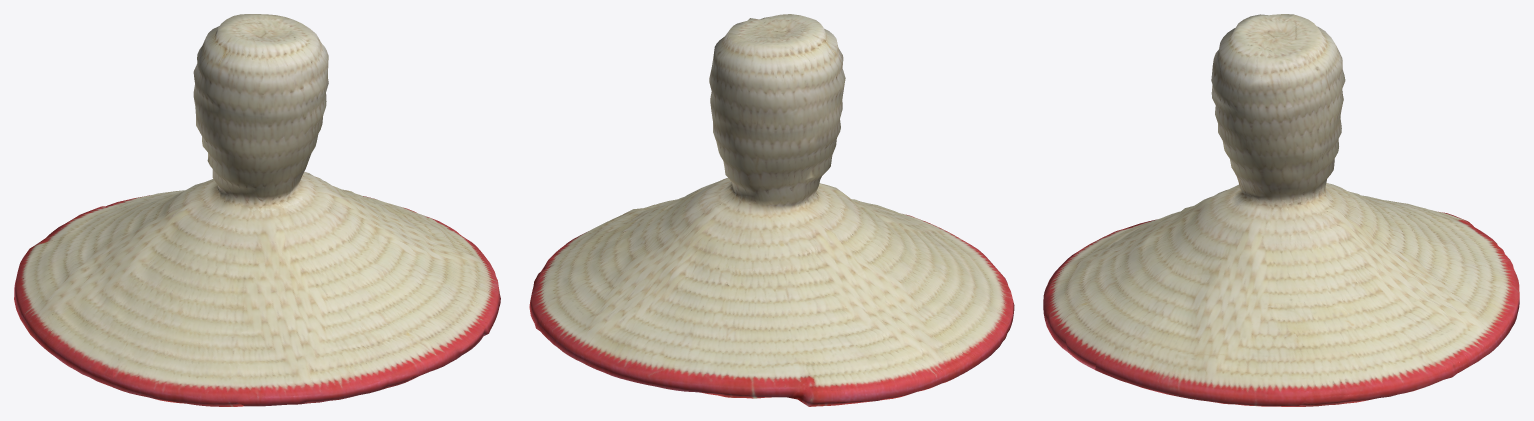
Rendered from woven-lid.gltf.
3 renders of one model, left to right at view 1: azimuth 30°, elevation 25°; view 2: azimuth 150°, elevation 25°; view 3: azimuth 270°, elevation 25°, orthographic.
Visible parts, largest first — view 1: lid-optimised; view 2: lid-optimised; view 3: lid-optimised.
Part boxes in pixels (bbox=[...]): lid-optimised: bbox=[14, 14, 500, 406]; lid-optimised: bbox=[529, 14, 1014, 406]; lid-optimised: bbox=[1043, 14, 1519, 406].
Size of the model in its own units: 20.21 by 13.47 by 20.03.
1 material, 1 textured.
